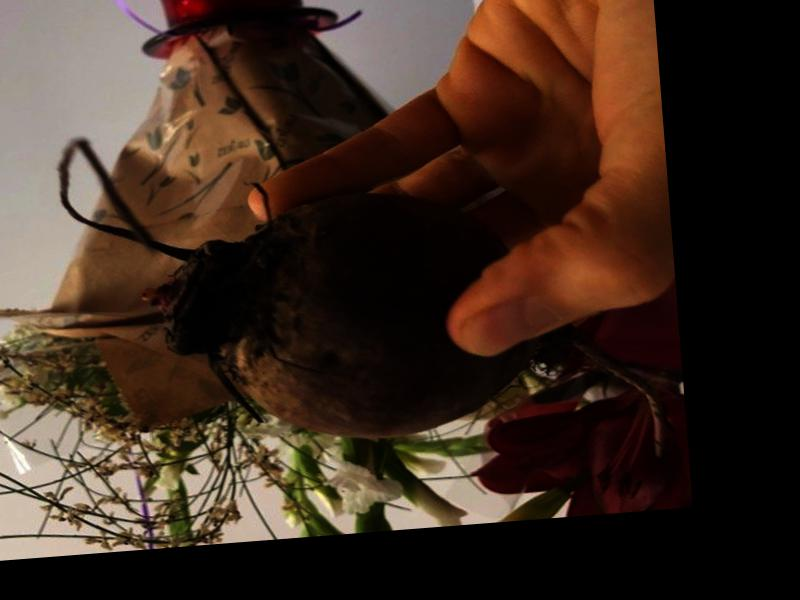Beet: (54, 97, 664, 499)
